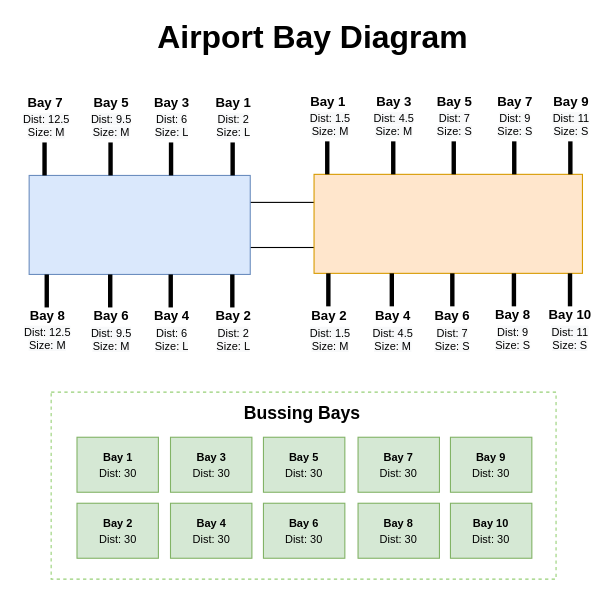
This 613x598 diagram has some shape labels left out. The centre of each missing label's shape, as x and y in pixels:
Domestic Terminal: the point at 447,223
International Terminal: the point at 139,224
